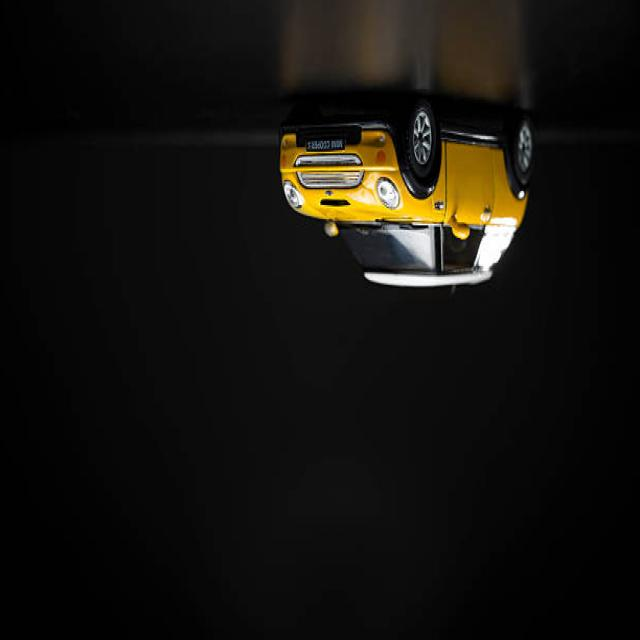Car: (279, 96, 538, 290)
